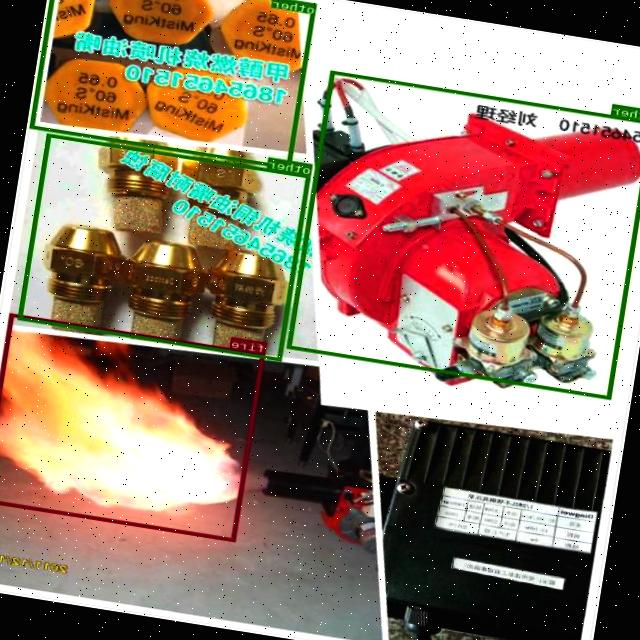fire: (0, 312, 267, 541)
